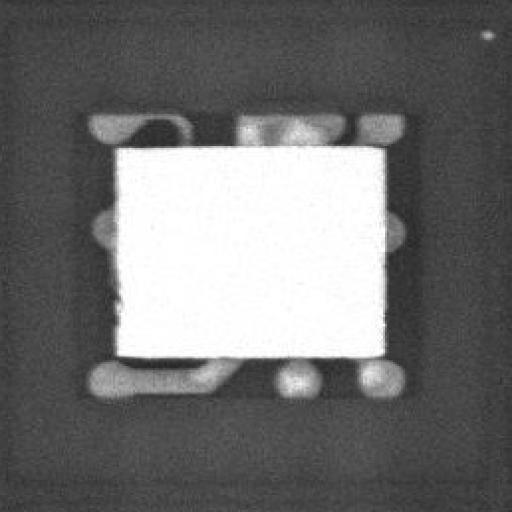DIE_INK: (476, 24, 498, 42)
